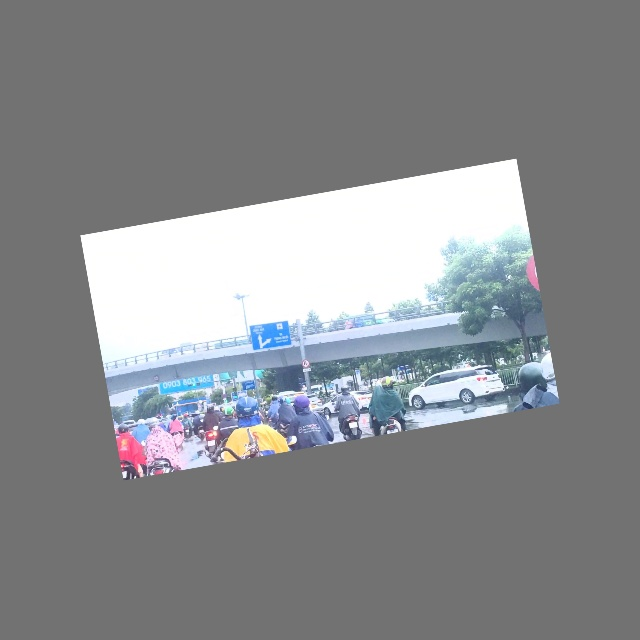P.124b1: (299, 357, 313, 372)
